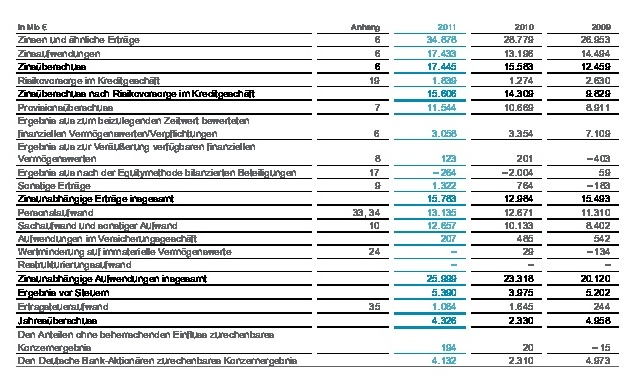table: (0, 0, 636, 384)
